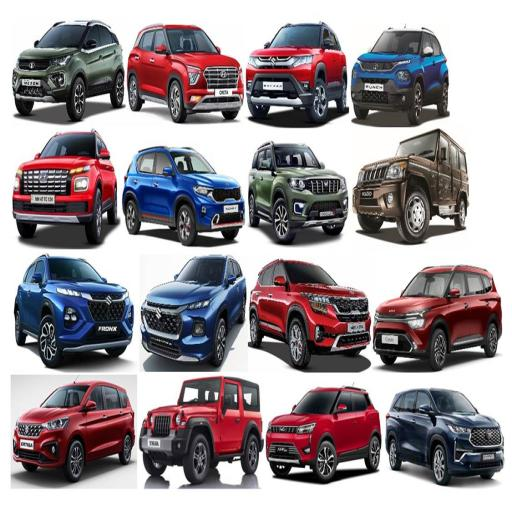Sedan-sDLz: (372, 257, 504, 372), (14, 253, 135, 369), (139, 376, 264, 484), (123, 141, 248, 248), (10, 128, 118, 248), (125, 22, 246, 128), (388, 383, 506, 490), (140, 253, 247, 369), (14, 380, 133, 484), (14, 15, 126, 123), (265, 383, 382, 486), (245, 16, 349, 128), (347, 20, 453, 127)
suv: (247, 258, 372, 376), (139, 372, 266, 488), (349, 128, 470, 244), (242, 140, 352, 250)
